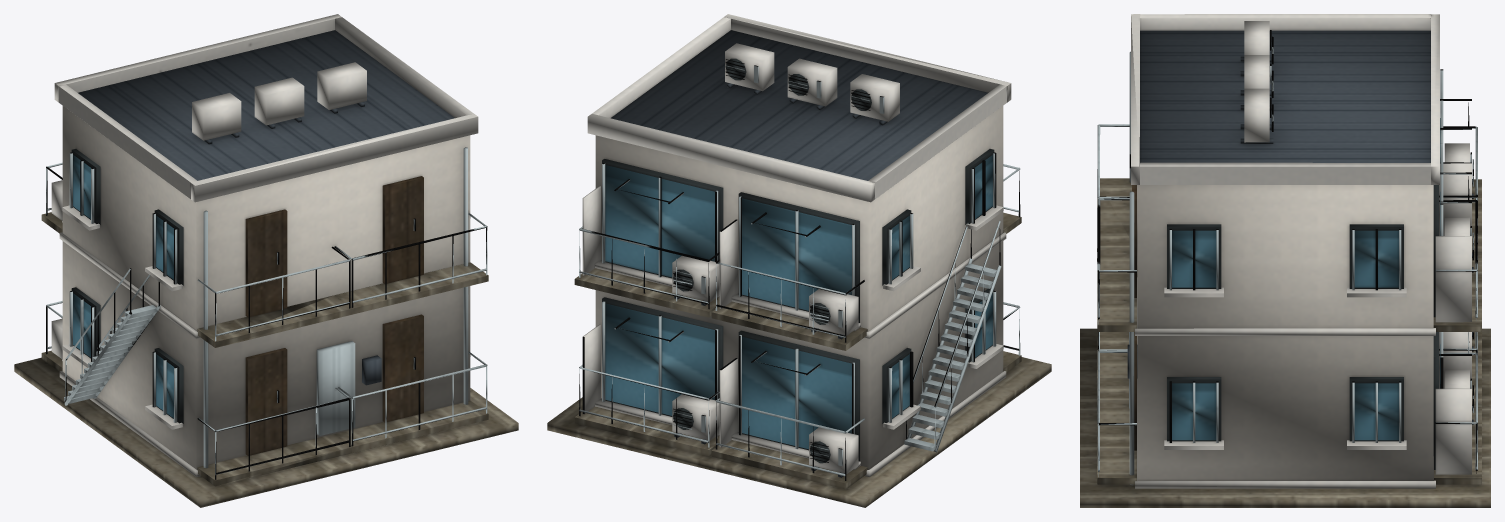
The model's file is residential_015.lod1.obj.
The picture shows the model from 3 angles, left to right: view 1: azimuth 30°, elevation 25°; view 2: azimuth 150°, elevation 25°; view 3: azimuth 270°, elevation 25°; orthographic projection. The views are drawn at different scales.
Visible parts, largest first — view 1: residential_015; view 2: residential_015; view 3: residential_015.
Boxes of the visible parts, x1=… form: residential_015: x1=14, y1=14, x2=518, y2=507; residential_015: x1=547, y1=14, x2=1051, y2=507; residential_015: x1=1080, y1=14, x2=1490, y2=507.
Size of the model in its own units: 7.34 by 6.91 by 7.2.
1 material, 1 textured.
